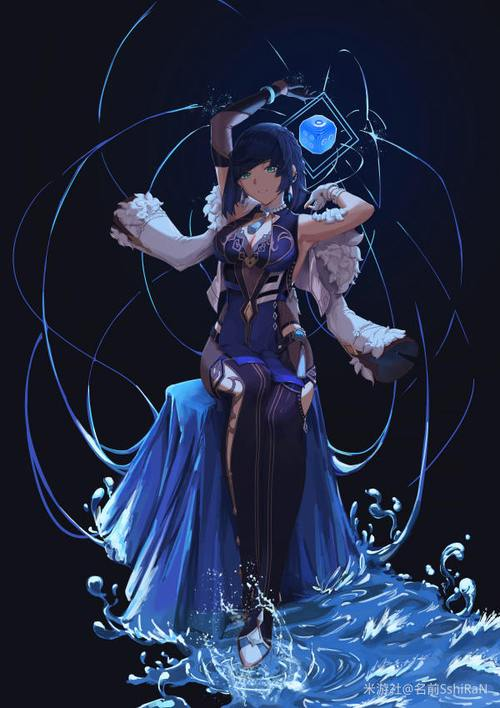夜兰: (199, 70, 377, 673)
